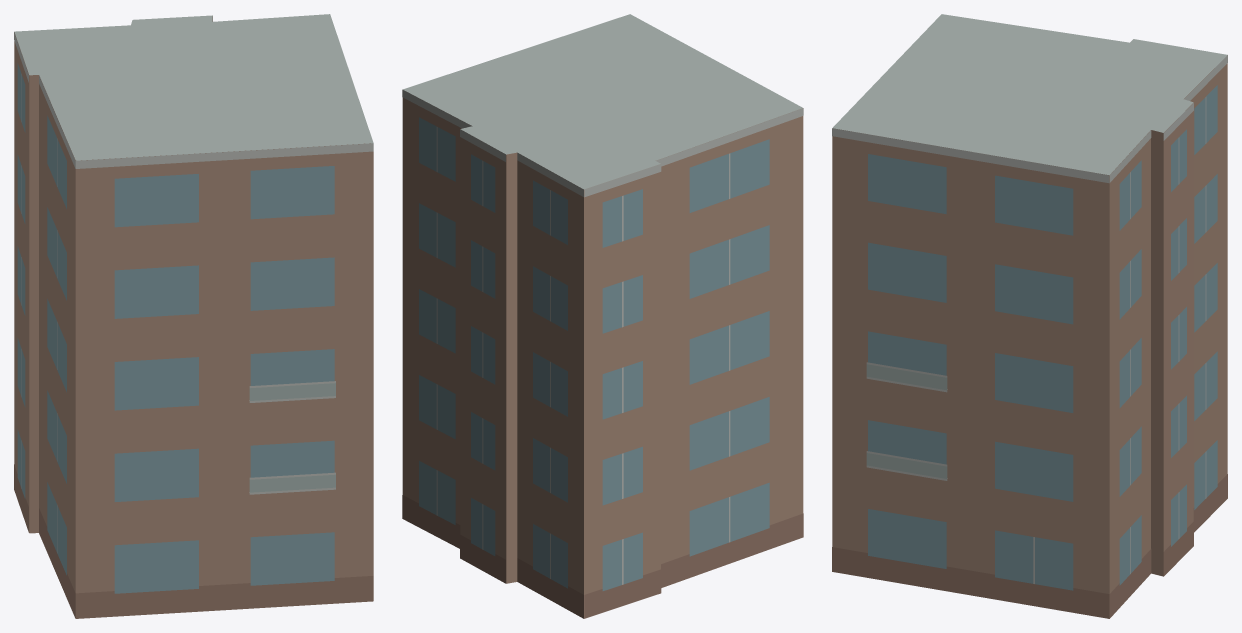
File: survey-upis-32948806.glb
The picture shows the model from 3 angles, left to right: view 1: azimuth 30°, elevation 25°; view 2: azimuth 150°, elevation 25°; view 3: azimuth 270°, elevation 25°; orthographic projection. The views are drawn at different scales.
Visible parts, largest first — view 1: survey-upis-32948806.tmp; view 2: survey-upis-32948806.tmp; view 3: survey-upis-32948806.tmp.
Boxes of the visible parts, left/top/right/bottom form: survey-upis-32948806.tmp: left=14, top=14, right=373, bottom=618; survey-upis-32948806.tmp: left=402, top=14, right=803, bottom=618; survey-upis-32948806.tmp: left=832, top=14, right=1227, bottom=618.
Bounding box in the file's own units: 10.45 × 13.4 × 10.84.
